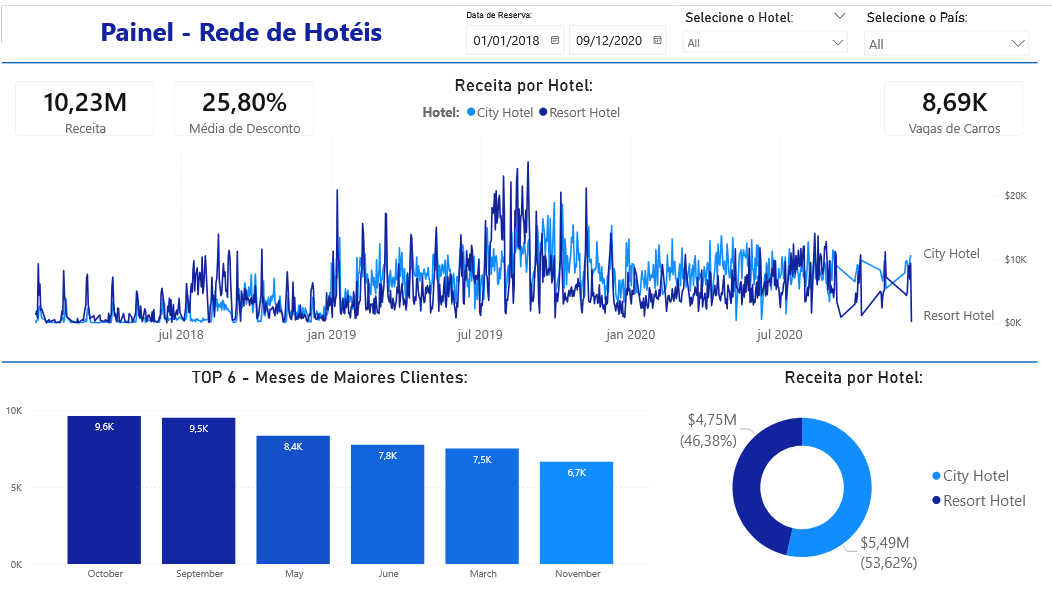

What the dashboard file says about the page in this screenshot:
{"tool":"powerbi","page":{"name":"Page 1","canvas":[1280,720],"ordinal":0},"visuals":[{"type":"shape","box":[0,426.2,1280,27.7],"z":0},{"type":"shape","box":[0,57.5,1280,27.5],"z":3000},{"type":"lineChart","title":"Receita por Hotel:","fields":{"Category":["Query1.reservation_status_date"],"Y2":["Sum(Query1.Revenue)"],"Series":["Query1.ï»¿hotel"]},"box":[9.2,85.4,1270.8,341.5],"z":4500},{"type":"cardVisual","fields":{"Data":["Sum(Query1.Revenue)"]},"box":[0,76.6,206.2,102.3],"z":4750},{"type":"cardVisual","fields":{"Data":["Avg(Query1.Discount)"]},"box":[196.2,76.2,208.8,102.5],"z":5000},{"type":"slicer","fields":{"Values":["Query1.country"]},"box":[1055.6,0,224.4,66.9],"z":7000},{"type":"slicer","fields":{"Values":["Query1.ï»¿hotel"]},"box":[831.2,0,224.4,66.9],"z":8000},{"type":"cardVisual","fields":{"Data":["Sum(Query1.required_car_parking_spaces)"]},"box":[1073.5,76.5,206.5,102.4],"z":9000},{"type":"donutChart","title":"Receita por Hotel:","fields":{"Y":["Sum(Query1.Revenue)"],"Category":["Query1.ï»¿hotel"]},"box":[824.5,447.3,455.5,272.7],"z":10000},{"type":"slicer","fields":{"Values":["Query1.reservation_status_date"]},"box":[561.7,0,275,65.8],"z":11000},{"type":"columnChart","title":"TOP 6 - Meses de Maiores Clientes:","fields":{"Category":["Query1.arrival_date_month"],"Y":["CountNonNull(Query1.arrival_date_month)"]},"box":[0,447,810,273],"z":13000},{"type":"textbox","box":[111.8,4.5,378.2,60.9],"z":13001}]}

Visuals, with their boxes in screenshot pixels (x1, y1, x2, y2), scaled from the page's 1280x720 canvas onto the 1052x598 screenshot:
shape: <region>0, 354, 1051, 377</region>
shape: <region>0, 48, 1051, 71</region>
"Receita por Hotel:" lineChart: <region>8, 71, 1051, 355</region>
cardVisual - Sum(Query1.Revenue): <region>0, 64, 169, 149</region>
cardVisual - Avg(Query1.Discount): <region>161, 63, 333, 148</region>
slicer - Query1.country: <region>868, 0, 1051, 56</region>
slicer - Query1.ï»¿hotel: <region>683, 0, 868, 56</region>
cardVisual - Sum(Query1.required_car_parking_spaces): <region>882, 64, 1051, 149</region>
"Receita por Hotel:" donutChart: <region>678, 372, 1051, 597</region>
slicer - Query1.reservation_status_date: <region>462, 0, 688, 55</region>
"TOP 6 - Meses de Maiores Clientes:" columnChart: <region>0, 371, 666, 597</region>
textbox: <region>92, 4, 403, 54</region>
